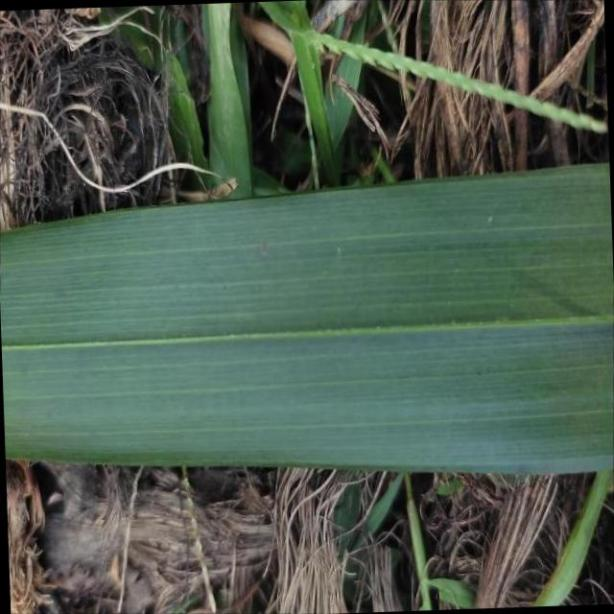Healthy: (0, 163, 614, 470)
